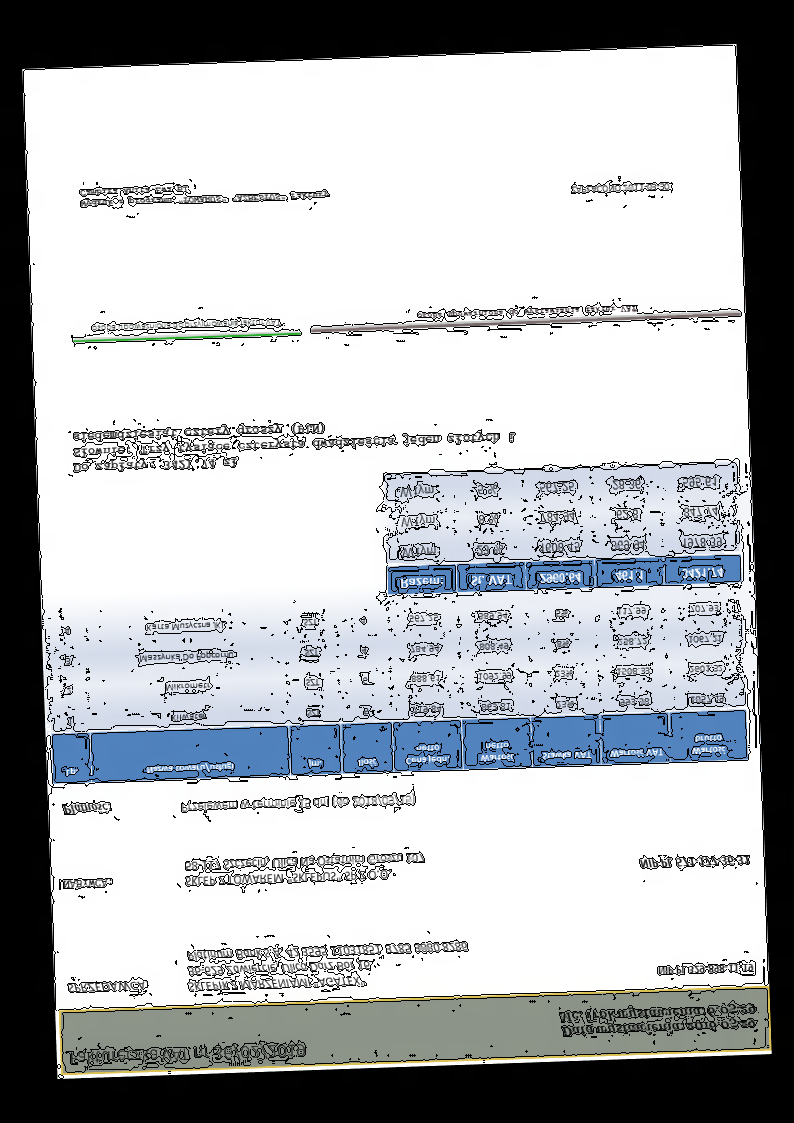Table: (45, 585, 748, 785), (383, 460, 742, 596)
TextBox: (69, 413, 520, 476), (183, 934, 471, 996), (181, 849, 427, 889), (555, 999, 759, 1042), (76, 176, 334, 209), (65, 1040, 308, 1071), (178, 791, 417, 815), (414, 302, 639, 323), (88, 316, 283, 335), (654, 958, 754, 980), (637, 852, 751, 871), (63, 976, 150, 998), (568, 180, 672, 198), (59, 874, 114, 893), (60, 801, 113, 818)
